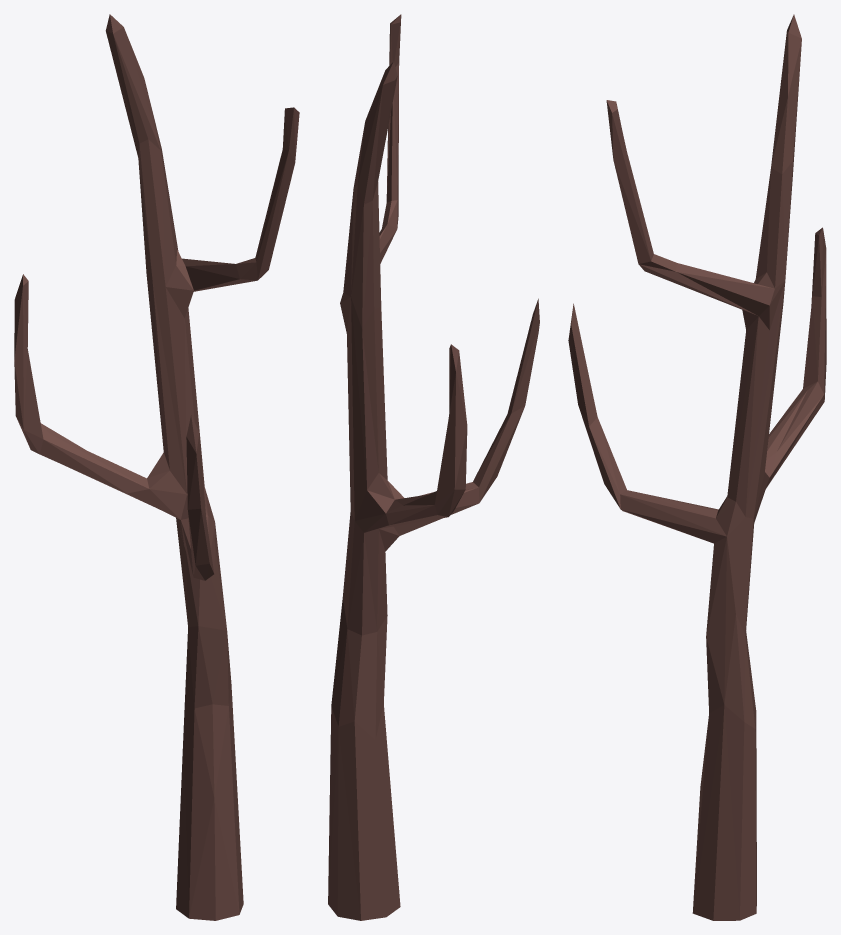
File: CommonTree_Dead_3.lod2.glb
3 renders of one model, left to right at view 1: azimuth 30°, elevation 25°; view 2: azimuth 150°, elevation 25°; view 3: azimuth 270°, elevation 25°, orthographic. The views are drawn at different scales.
Visible parts, largest first — view 1: CommonTree_Dead_3; view 2: CommonTree_Dead_3; view 3: CommonTree_Dead_3.
Boxes of the visible parts, x1=… form: CommonTree_Dead_3: x1=14, y1=14, x2=299, y2=920; CommonTree_Dead_3: x1=328, y1=14, x2=539, y2=920; CommonTree_Dead_3: x1=568, y1=14, x2=826, y2=920.
Size of the model in its own units: 0.6429 by 3 by 0.8116.
